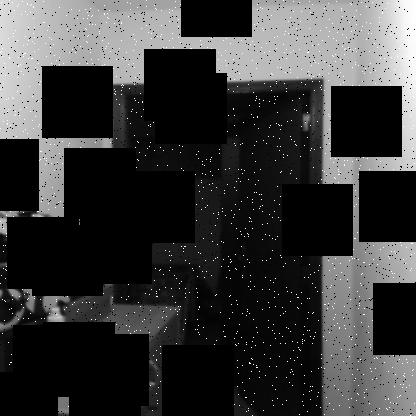Porte: (110, 77, 327, 416)
